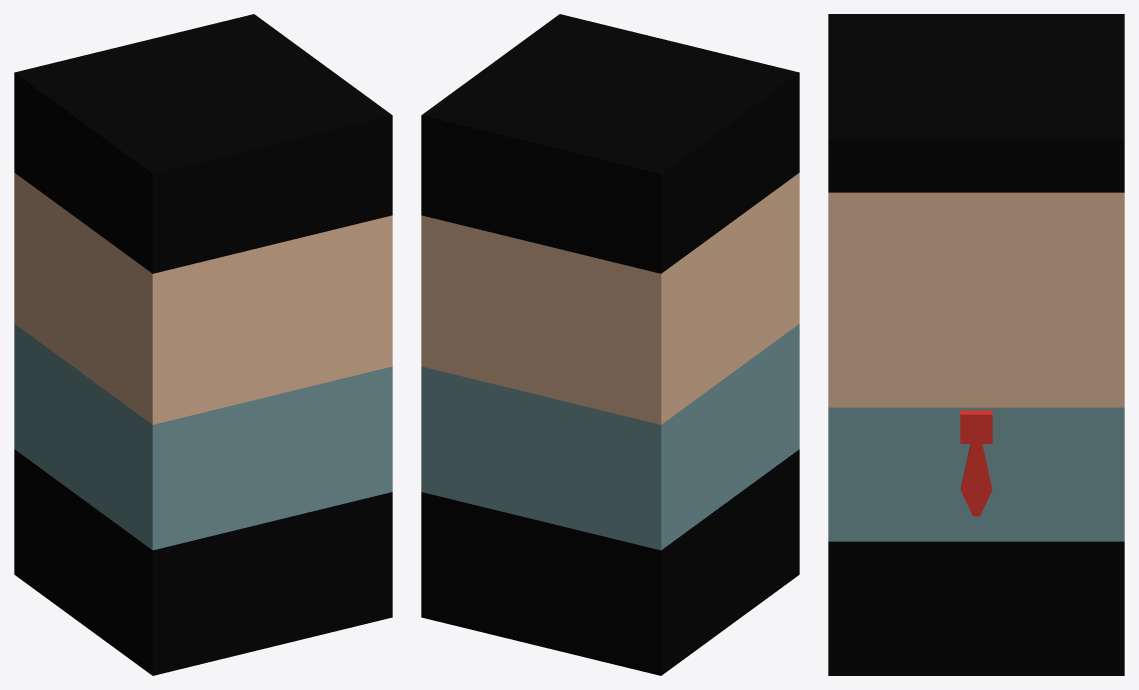
Rendered from SmallChar.fbx.
The picture shows the model from 3 angles, left to right: view 1: azimuth 30°, elevation 25°; view 2: azimuth 150°, elevation 25°; view 3: azimuth 270°, elevation 25°; orthographic projection. The views are drawn at different scales.
Visible parts, largest first — view 1: Cube; view 2: Cube; view 3: Cube.
Part boxes in pixels (<box>): Cube: <box>14,14,392,675</box>; Cube: <box>421,14,799,675</box>; Cube: <box>828,14,1124,675</box>.
Bounding box in the file's own units: 207 × 400 × 200.
